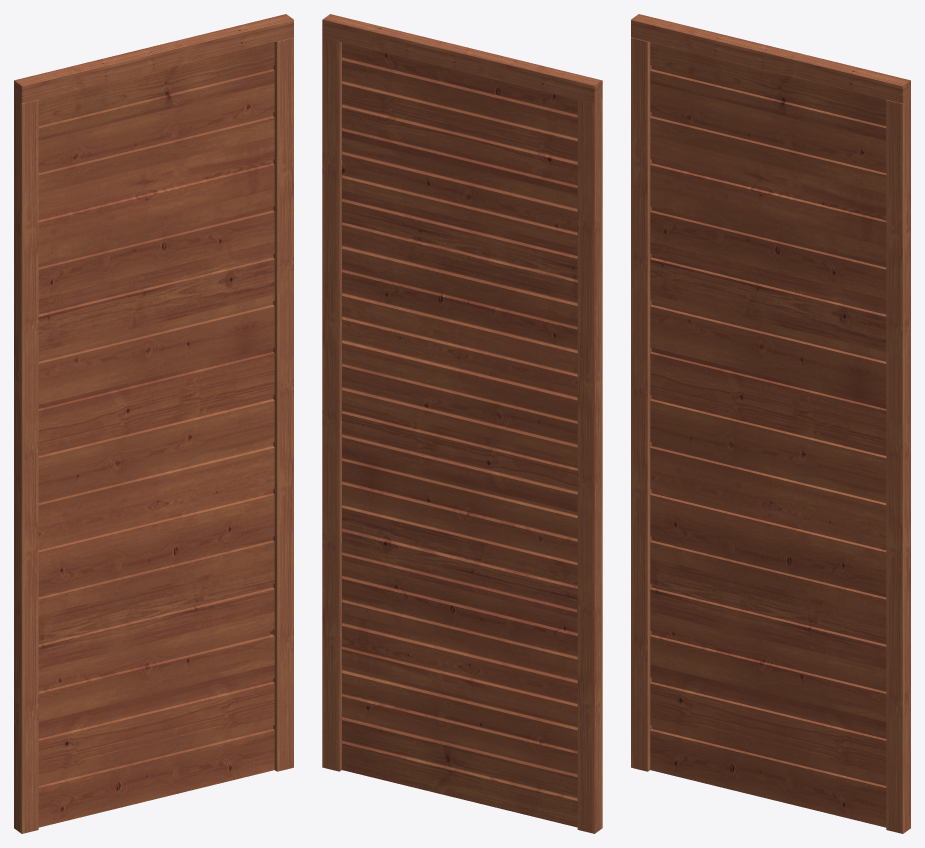
Rendered from 3ftx7.875ft.obj.
3 renders of one model, left to right at view 1: azimuth 30°, elevation 25°; view 2: azimuth 150°, elevation 25°; view 3: azimuth 330°, elevation 25°, orthographic.
Parts seen in each view (by area): view 1: wall_planks, trim_left, trim_right, trim_top; view 2: wall_planks, trim_left, trim_right, trim_top; view 3: wall_planks, trim_right, trim_left, trim_top.
Part boxes in pixels (x1,y1,x2,y2): wall_planks: [38, 42, 274, 827]; trim_left: [14, 98, 38, 833]; trim_right: [273, 37, 293, 771]; trim_top: [14, 14, 293, 103]; wall_planks: [342, 42, 577, 827]; trim_left: [577, 98, 602, 833]; trim_right: [322, 37, 342, 771]; trim_top: [322, 14, 602, 103]; wall_planks: [650, 42, 886, 827]; trim_right: [886, 98, 910, 833]; trim_left: [631, 37, 651, 771]; trim_top: [631, 14, 910, 103].
Size of the model in its own units: 36 by 94.5 by 1.82.
